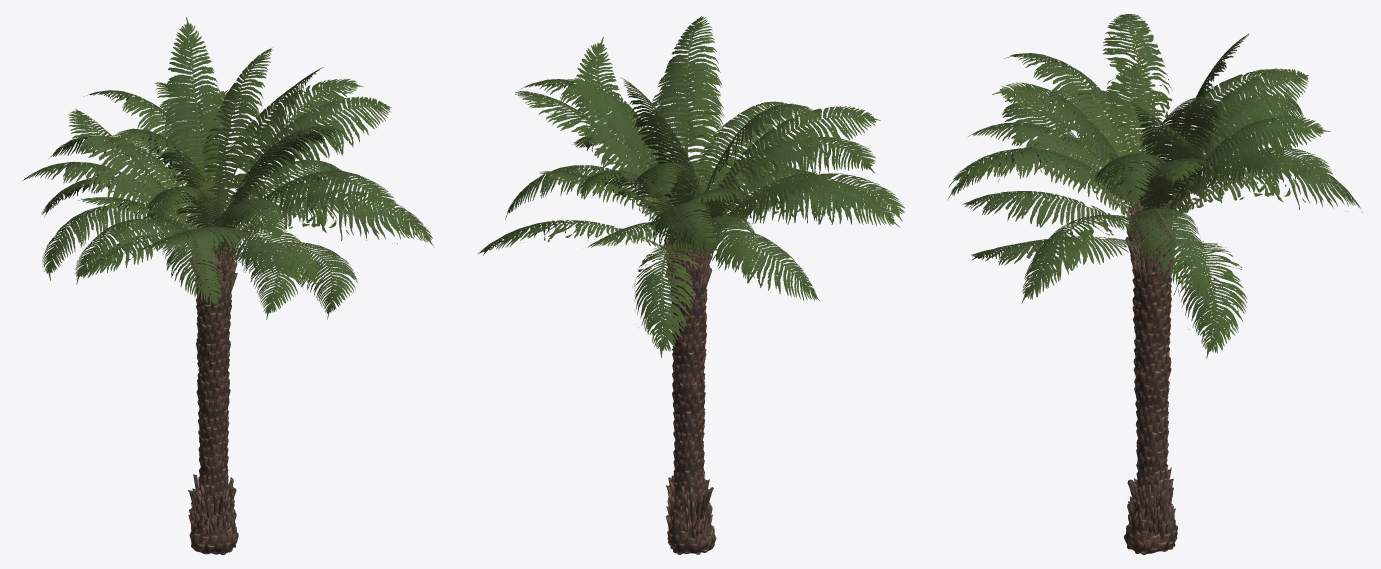
Rendered from tree_fern_large_fe1198b6.fbx.
3 renders of one model, left to right at view 1: azimuth 30°, elevation 25°; view 2: azimuth 150°, elevation 25°; view 3: azimuth 270°, elevation 25°, orthographic. The views are drawn at different scales.
Visible parts, largest first — view 1: tree_fern_large_fe1198b6; view 2: tree_fern_large_fe1198b6; view 3: tree_fern_large_fe1198b6.
Boxes of the visible parts, x1,y1,x2,y2 form: tree_fern_large_fe1198b6: (22,17,434,554); tree_fern_large_fe1198b6: (477,16,904,554); tree_fern_large_fe1198b6: (947,14,1362,554).
Size of the model in its own units: 9.12 by 11.74 by 8.52.
Materials: 2 (2 with a texture image).
